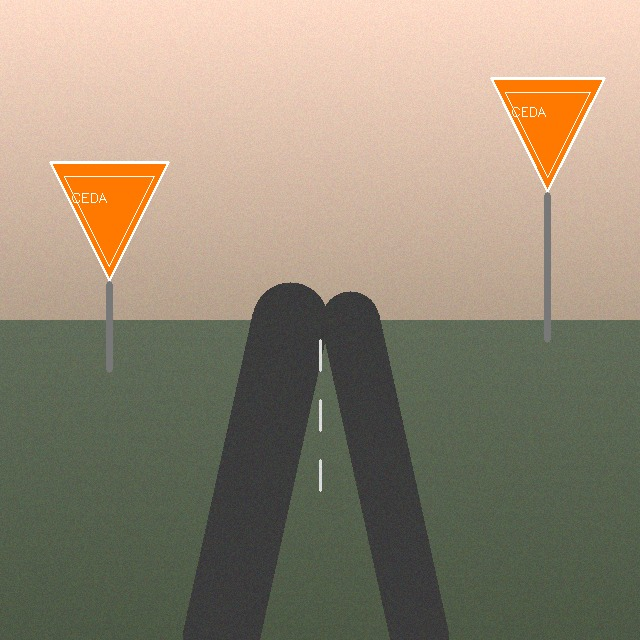ceda_el_paso: (46, 158, 172, 284), (487, 74, 608, 195)
